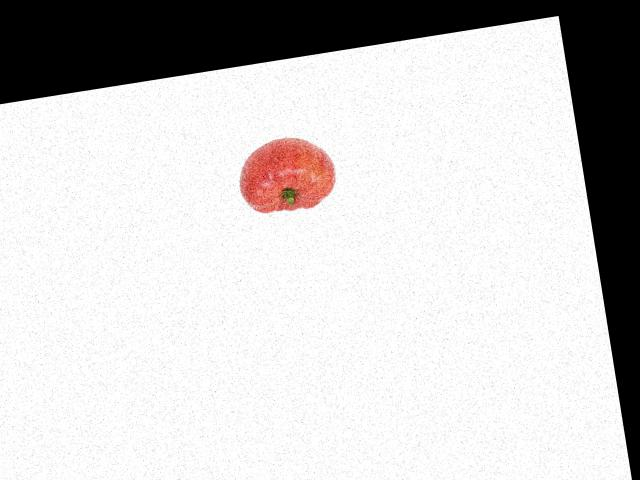tomato: (234, 131, 340, 216)
